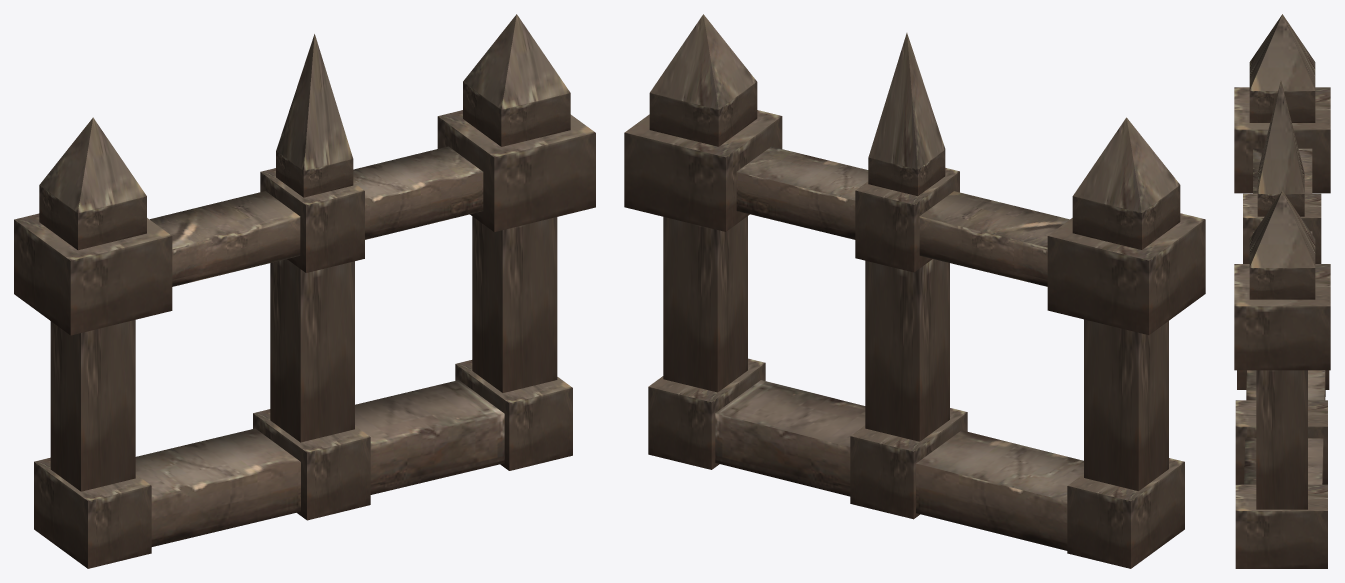
Rendered from new_p_fence_1.FBX.
The picture shows the model from 3 angles, left to right: view 1: azimuth 30°, elevation 25°; view 2: azimuth 150°, elevation 25°; view 3: azimuth 270°, elevation 25°; orthographic projection. The views are drawn at different scales.
Parts seen in each view (by area): view 1: new_p_fence_1; view 2: new_p_fence_1; view 3: new_p_fence_1.
Part boxes in pixels (x1,y1,x2,y2): new_p_fence_1: [14, 14, 595, 568]; new_p_fence_1: [624, 14, 1205, 568]; new_p_fence_1: [1234, 14, 1330, 568].
Bounding box in the file's own units: 1.59 × 1.33 × 0.2961.
